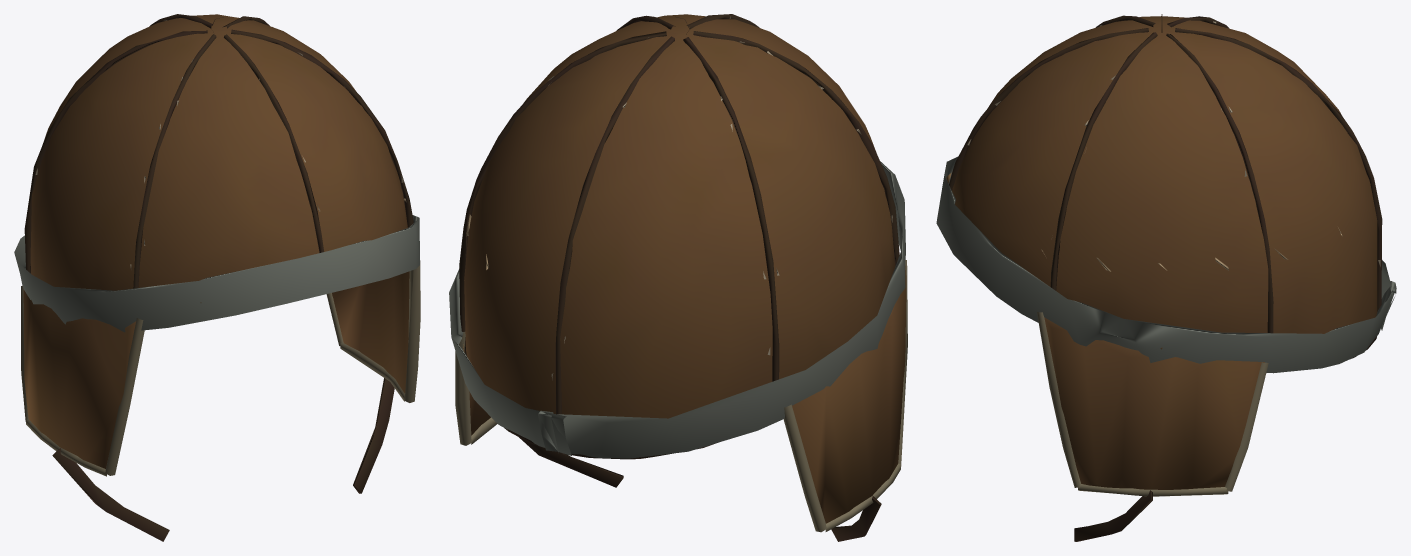
The picture shows the model from 3 angles, left to right: view 1: azimuth 30°, elevation 25°; view 2: azimuth 150°, elevation 25°; view 3: azimuth 270°, elevation 25°; orthographic projection. The views are drawn at different scales.
Visible parts, largest first — view 1: tanned leather, weathered plate; view 2: tanned leather, weathered plate; view 3: tanned leather, weathered plate.
Part boxes in pixels (x1,y1,x2,y2): tanned leather: [21, 14, 420, 541]; weathered plate: [14, 215, 419, 332]; tanned leather: [455, 14, 907, 541]; weathered plate: [449, 161, 905, 458]; tanned leather: [949, 14, 1382, 541]; weathered plate: [936, 156, 1396, 373].
Bounding box in the file's own units: 0.2399 × 0.3118 × 0.2724.
